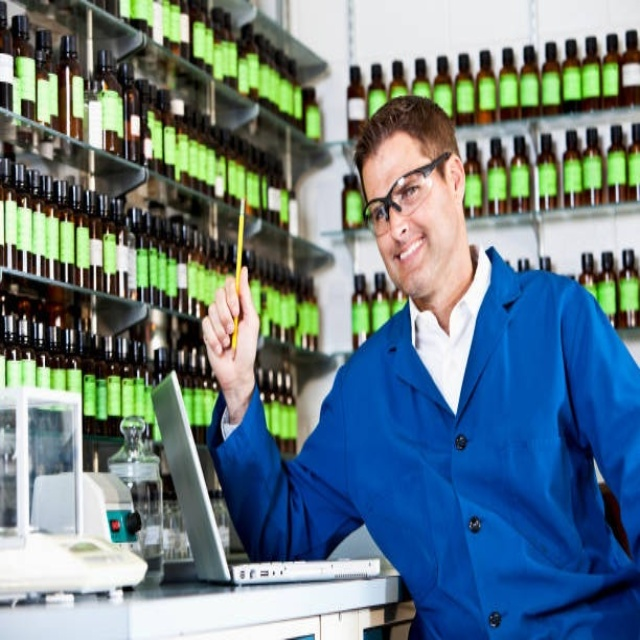Gafas: (360, 152, 450, 237)
Sin_guantes: (202, 264, 261, 405)
Sin_mascara: (385, 229, 438, 281)
